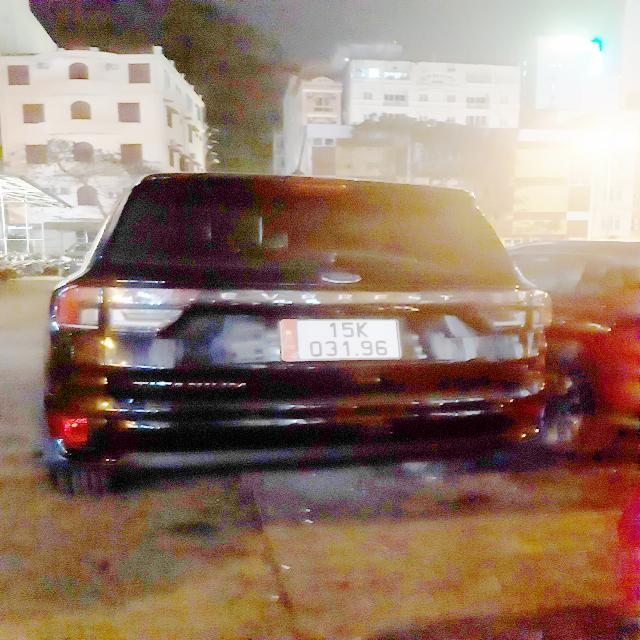license_plate: (276, 317, 407, 365)
